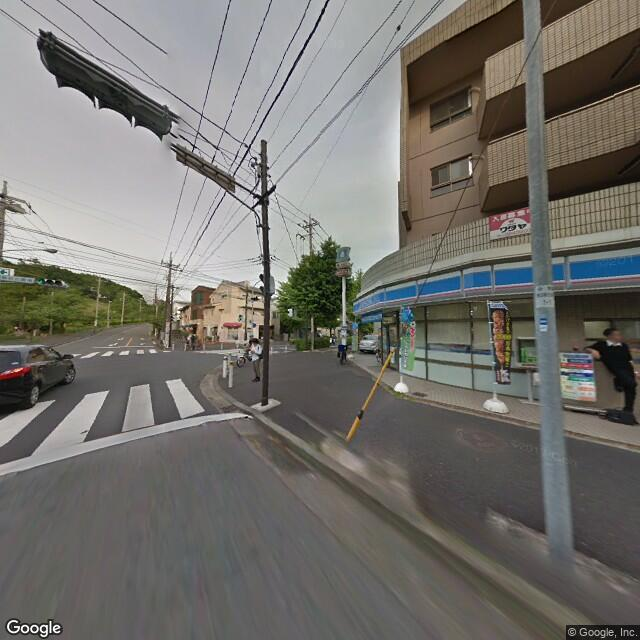lawson: (354, 239, 639, 316), (333, 244, 353, 267)
